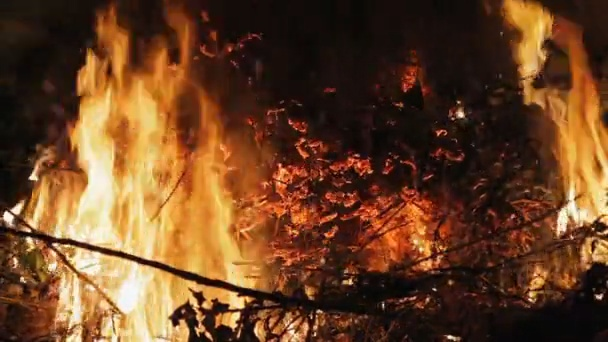fire: (33, 19, 256, 340), (506, 3, 608, 237), (2, 200, 25, 224)
